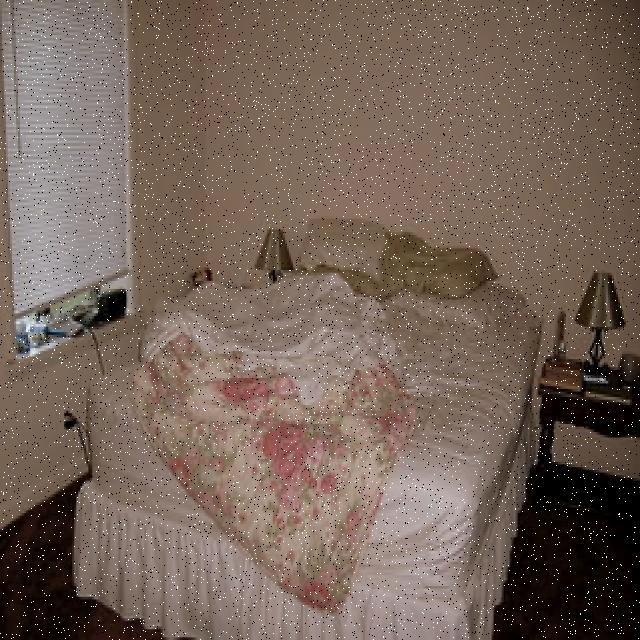bed: (72, 218, 543, 636)
